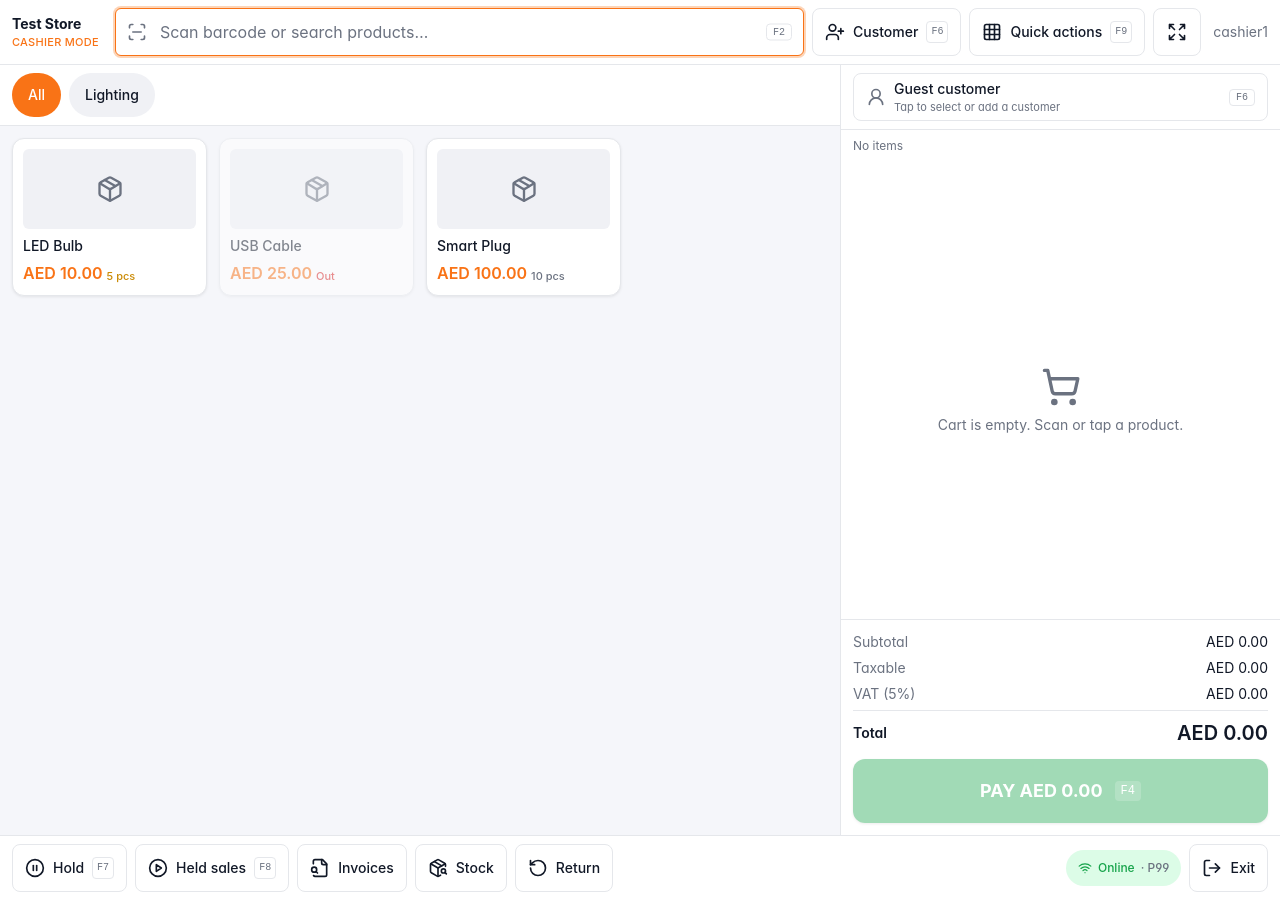
Scenario: Cashier Mode — products, barcode and cart › unknown barcodes are reported and never add a "closest" product
Expected: the button with aria-label "Add LED Bulb" is shown, 12,138 -> 207,296
Type "629100" into the search field with placeholder "Scan barcode or search products…" at [459, 32], box 115,8 -> 804,56
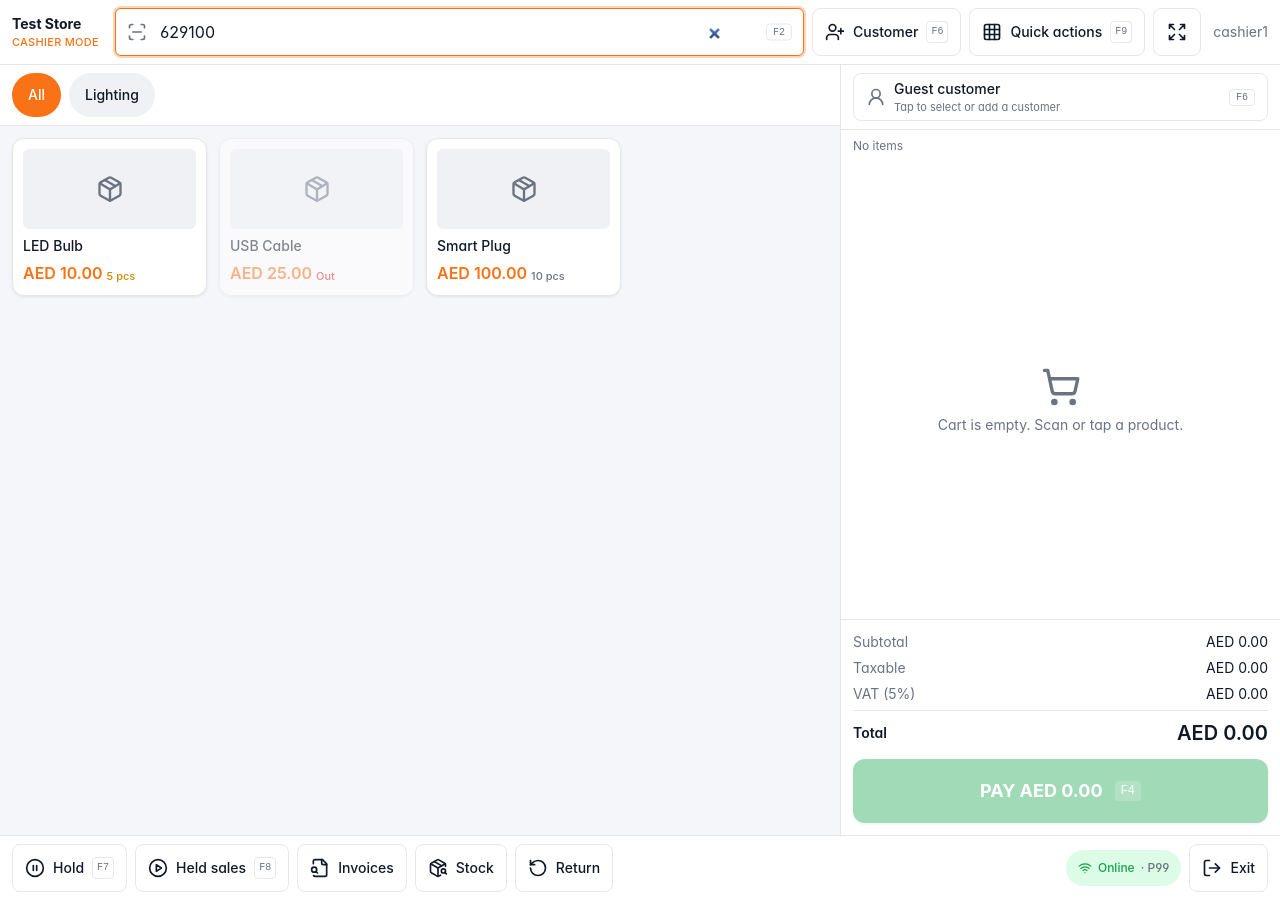
Press Enter in the search field with placeholder "Scan barcode or search products…", box 115,8 -> 804,56
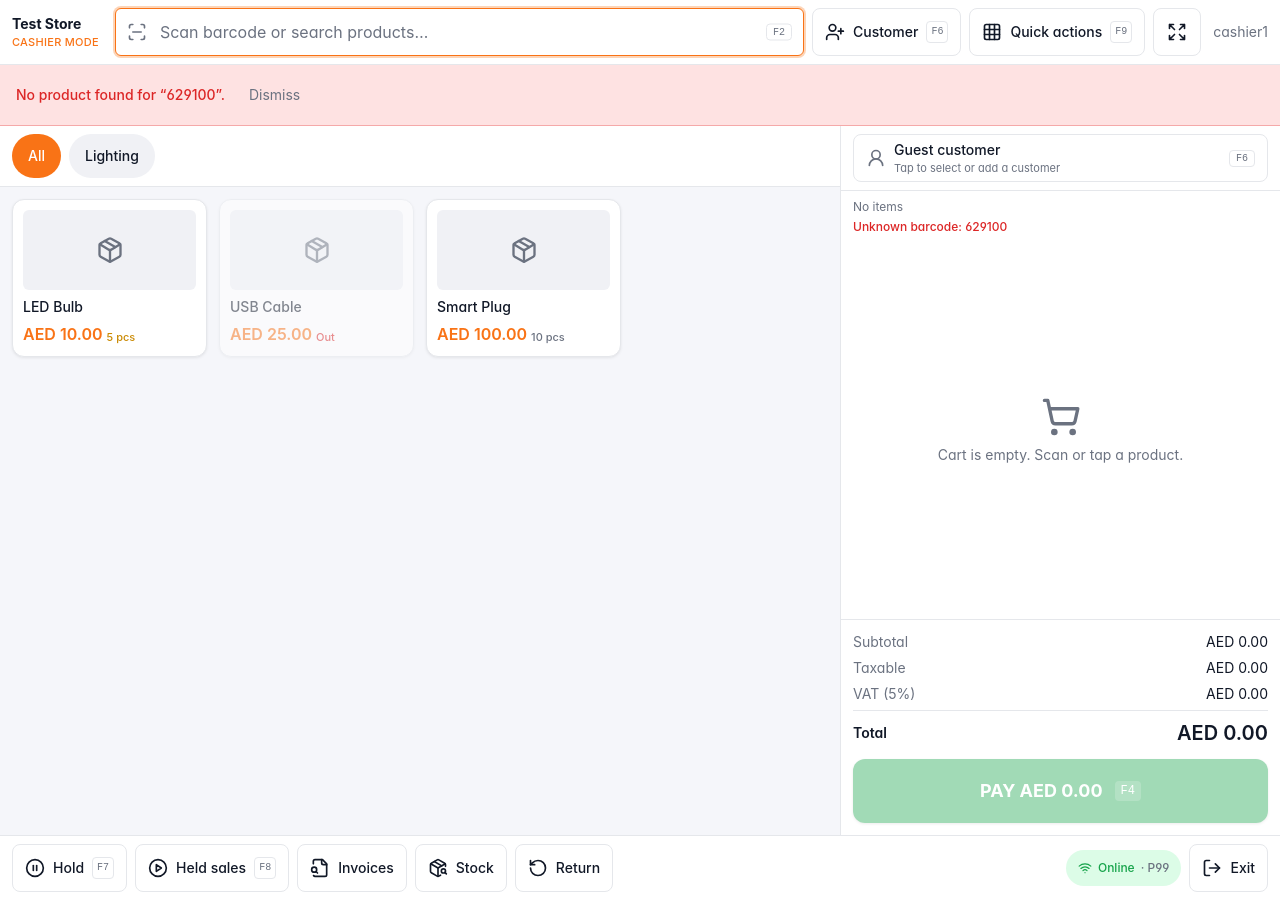
Now the text "No product found for “629100”." is shown, box 16,85 -> 225,105
